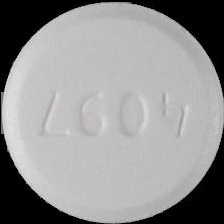70786-4097: (0, 0, 224, 224)
